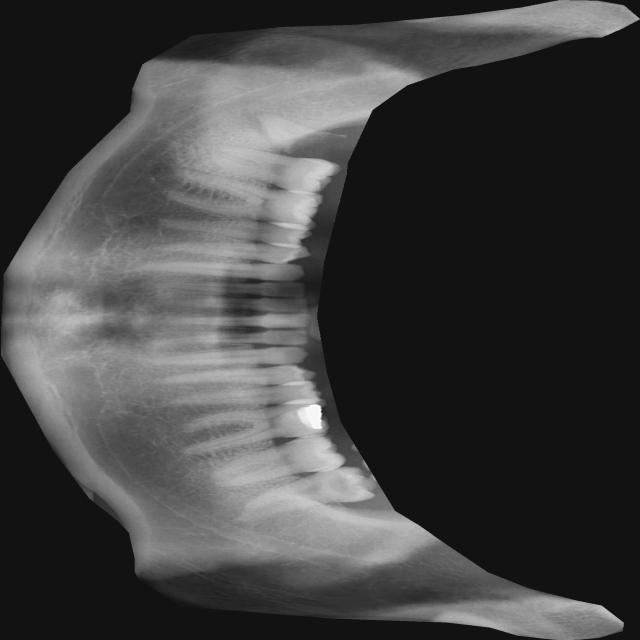mandibula: (0, 0, 639, 640)
